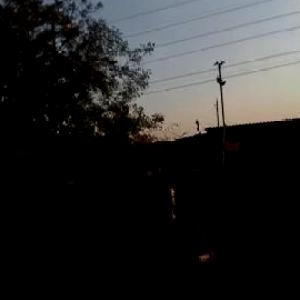follow: (130, 168, 223, 299)
